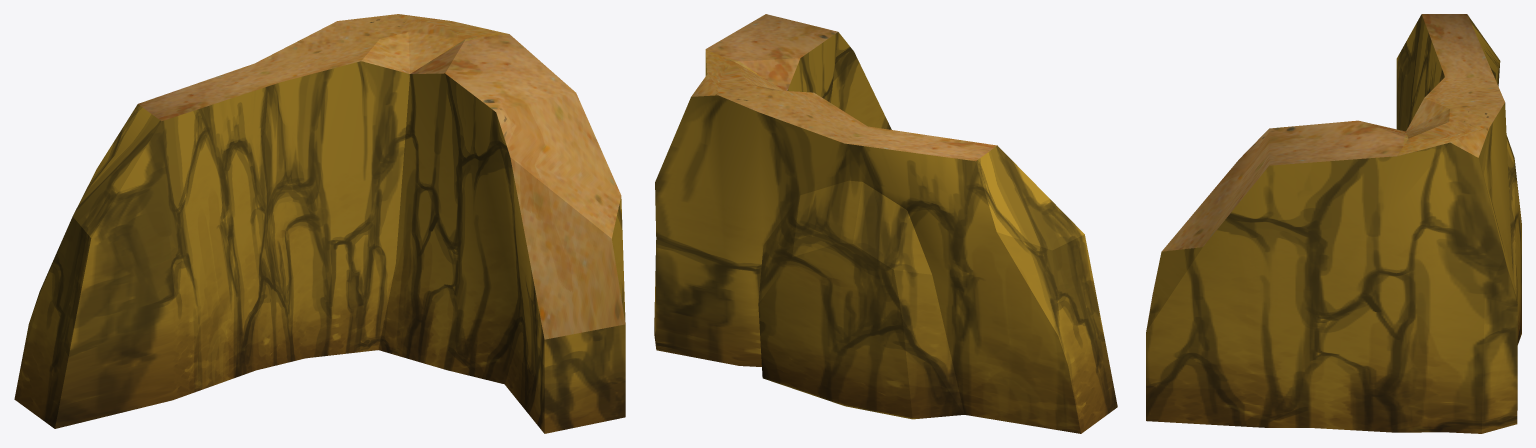
Rendered from 3by4 L Piece.FBX.
The picture shows the model from 3 angles, left to right: view 1: azimuth 30°, elevation 25°; view 2: azimuth 150°, elevation 25°; view 3: azimuth 270°, elevation 25°; orthographic projection. The views are drawn at different scales.
Visible parts, largest first — view 1: 3by4 L Piece; view 2: 3by4 L Piece; view 3: 3by4 L Piece.
Part boxes in pixels (x1,y1,x2,y2): 3by4 L Piece: (14,14,625,433); 3by4 L Piece: (654,14,1117,433); 3by4 L Piece: (1146,14,1521,433).
Size of the model in its own units: 374 by 224 by 272.
